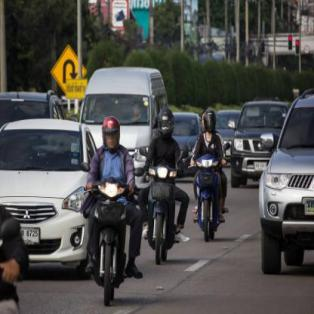Motocicleta: (85, 174, 126, 309), (141, 152, 180, 260), (193, 145, 223, 242)
